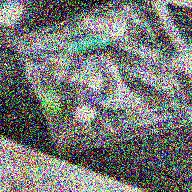러키펜정: (74, 105, 97, 123)
씨엠지세파클러캡슐: (84, 75, 104, 107)
에르도캡슐: (65, 35, 110, 55)
휴티렌정: (40, 90, 62, 114)
